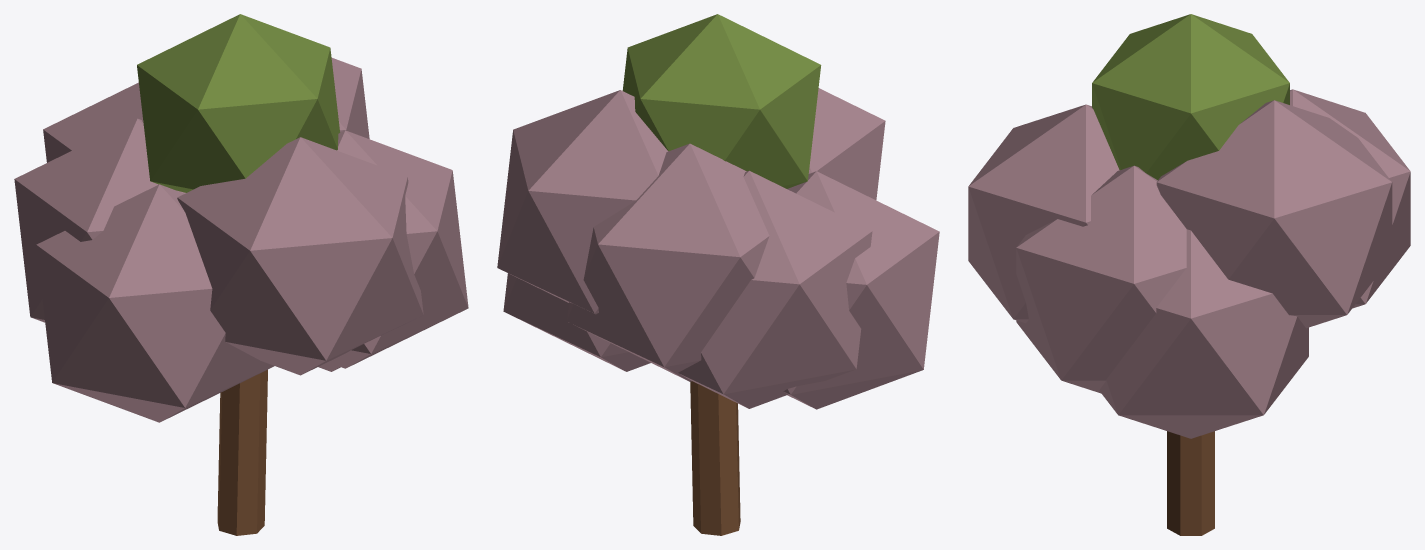
Rendered from tree_29.glb.
The picture shows the model from 3 angles, left to right: view 1: azimuth 30°, elevation 25°; view 2: azimuth 150°, elevation 25°; view 3: azimuth 270°, elevation 25°; orthographic projection.
Parts seen in each view (by area): view 1: tree_29; view 2: tree_29; view 3: tree_29.
Part boxes in pixels (<box>): tree_29: <box>14,14,468,535</box>; tree_29: <box>497,14,939,535</box>; tree_29: <box>968,14,1410,535</box>.
Size of the model in its own units: 4.29 by 5.31 by 4.15.
